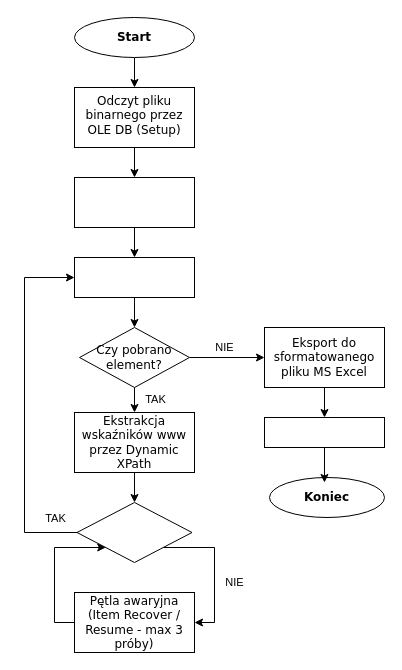
Some shapes in this 402 by 670 pixel diagram are drawn without their labels. Each missing label, with the box of its shape:
Clean-up: (264, 416, 384, 448)
Czy odczyt się udał?: (76, 502, 192, 562)
Pobranie elementu (Get Next Item): (74, 256, 194, 298)
Załadowanie kolejki zadań (Work Queue): (74, 176, 194, 228)
